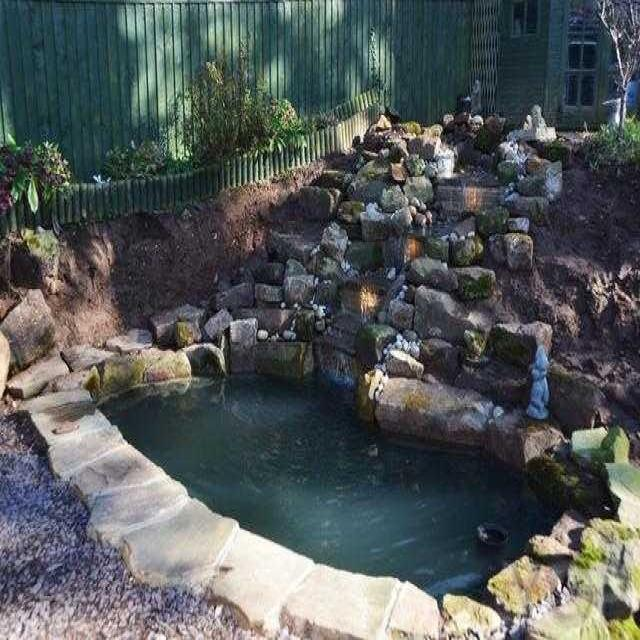Ponds: (19, 118, 640, 640)
